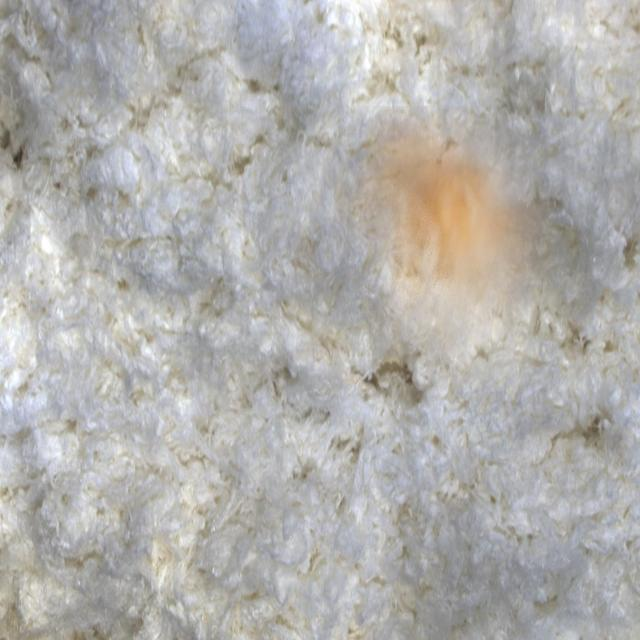dust: (334, 106, 556, 391)
